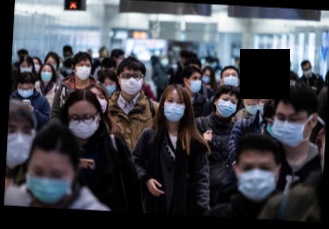with_mask: (25, 161, 73, 205), (237, 158, 277, 201), (272, 109, 309, 146), (6, 121, 33, 168), (68, 109, 98, 139), (163, 95, 186, 121), (119, 69, 141, 96), (215, 94, 237, 117), (74, 60, 91, 81), (187, 73, 202, 94), (223, 70, 239, 87), (242, 100, 259, 115), (17, 83, 33, 98), (38, 67, 52, 83), (102, 79, 116, 95), (19, 64, 32, 74), (202, 71, 212, 82)
